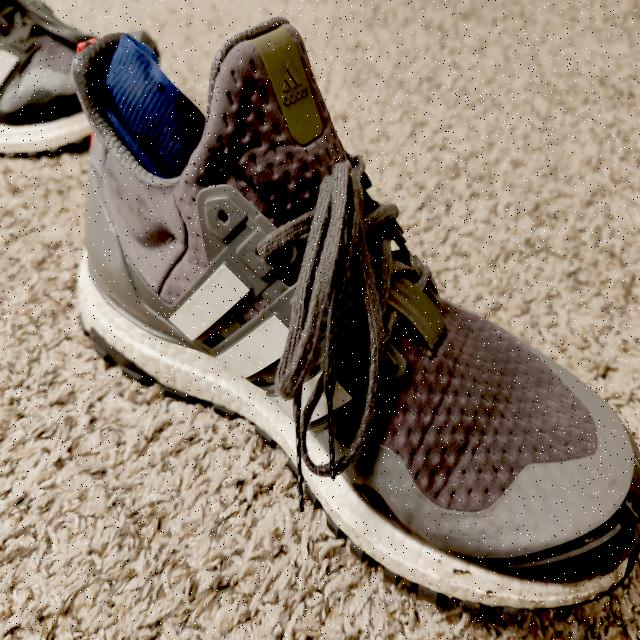black shoes: (109, 46, 589, 570)
